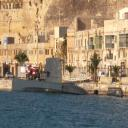submarine: (13, 58, 91, 96)
